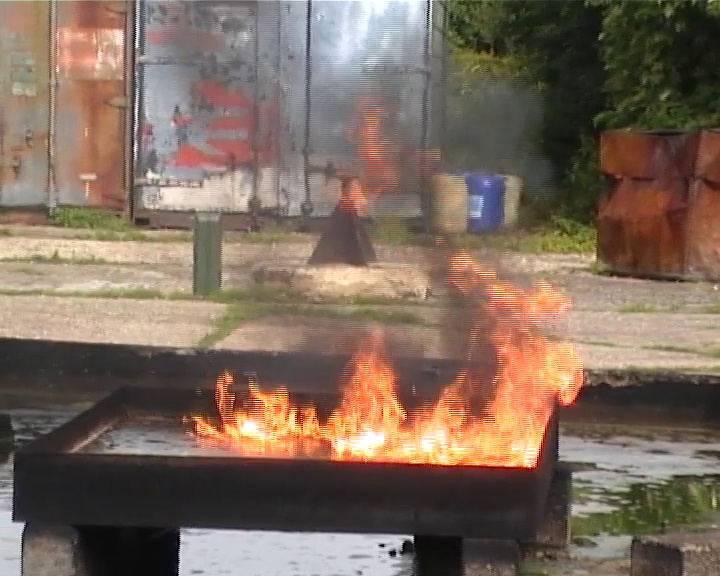fire: (326, 259, 580, 463), (189, 376, 321, 451)
